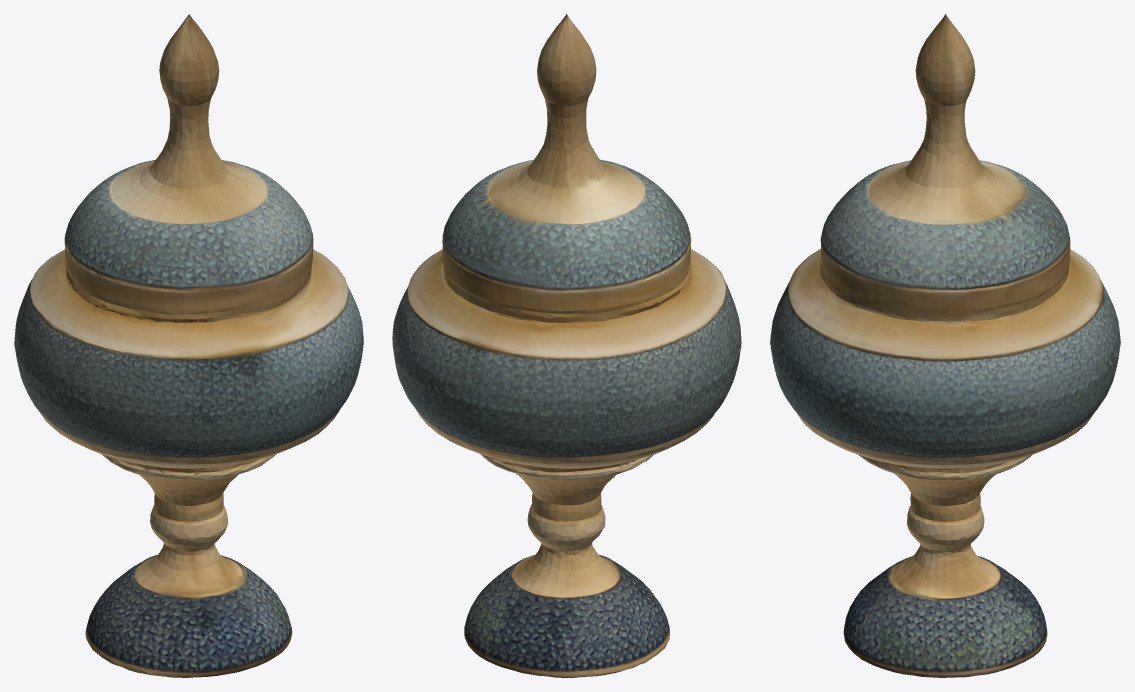
The picture shows the model from 3 angles, left to right: view 1: azimuth 30°, elevation 25°; view 2: azimuth 150°, elevation 25°; view 3: azimuth 270°, elevation 25°; orthographic projection.
Parts seen in each view (by area): view 1: geometry_0; view 2: geometry_0; view 3: geometry_0.
Part boxes in pixels (left/top/right/bottom): geometry_0: left=14, top=14, right=363, bottom=677; geometry_0: left=392, top=14, right=741, bottom=677; geometry_0: left=770, top=14, right=1120, bottom=677.
Size of the model in its own units: 0.5105 by 0.9994 by 0.5112.
1 material, 1 textured.
